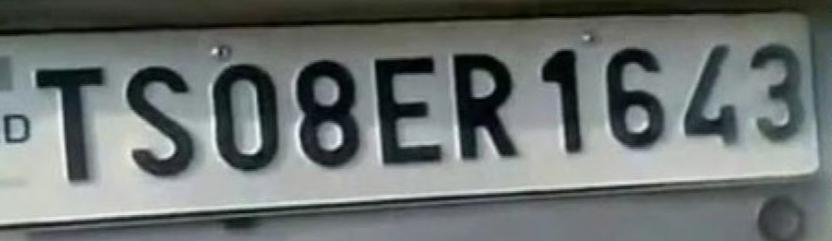0: (205, 57, 285, 178)
1: (535, 43, 591, 166)
3: (749, 30, 810, 153)
4: (681, 26, 740, 150)
6: (597, 32, 670, 164)
8: (294, 57, 362, 176)
E: (370, 50, 447, 171)
R: (443, 44, 526, 167)
S: (122, 62, 194, 182)
T: (27, 61, 114, 193)
